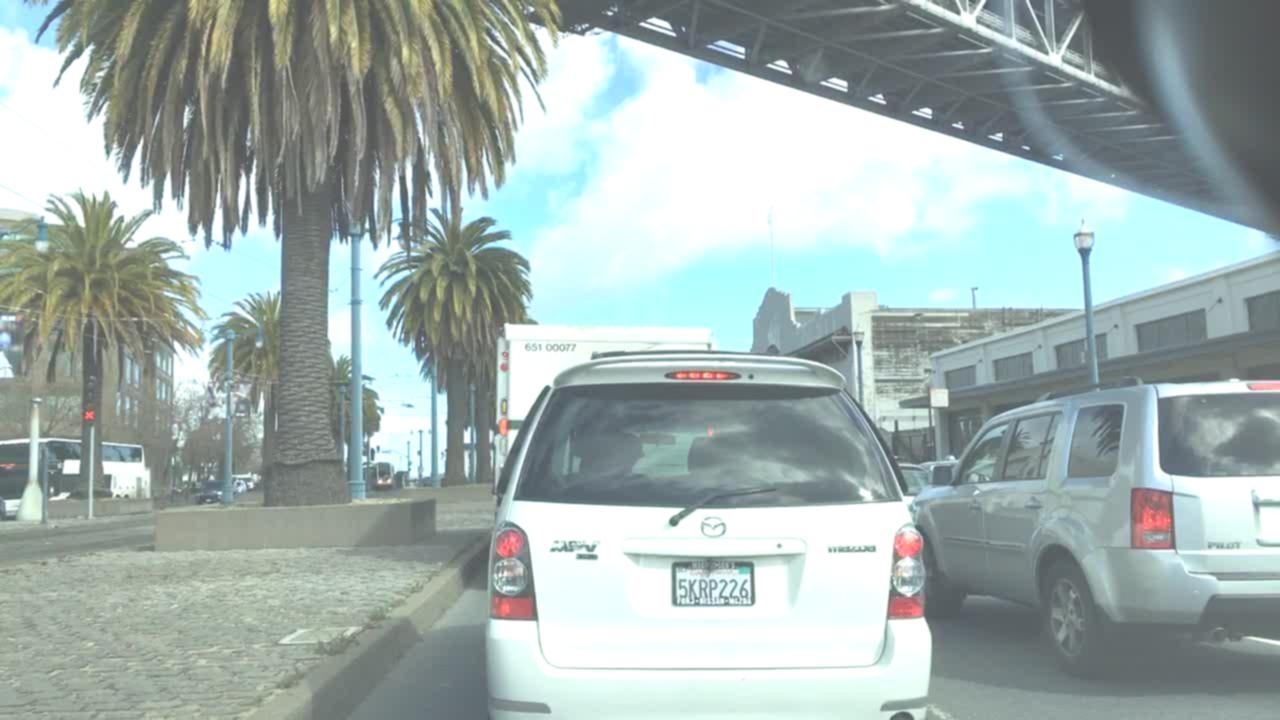Mazda: (696, 508, 730, 544)
